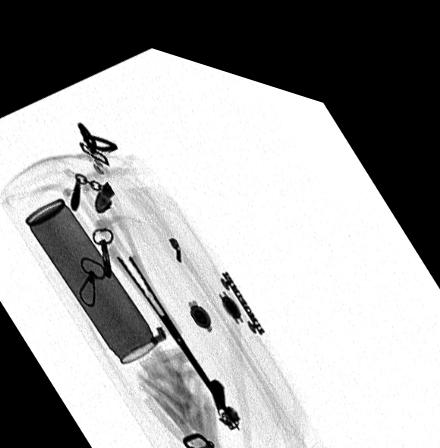Scissors: (61, 160, 246, 418)
